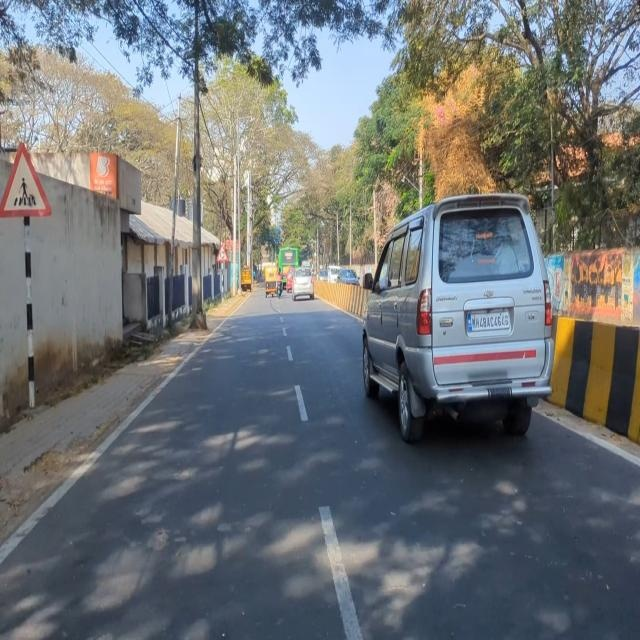bien_nguy_hiem: (0, 135, 54, 220), (216, 243, 228, 262)
